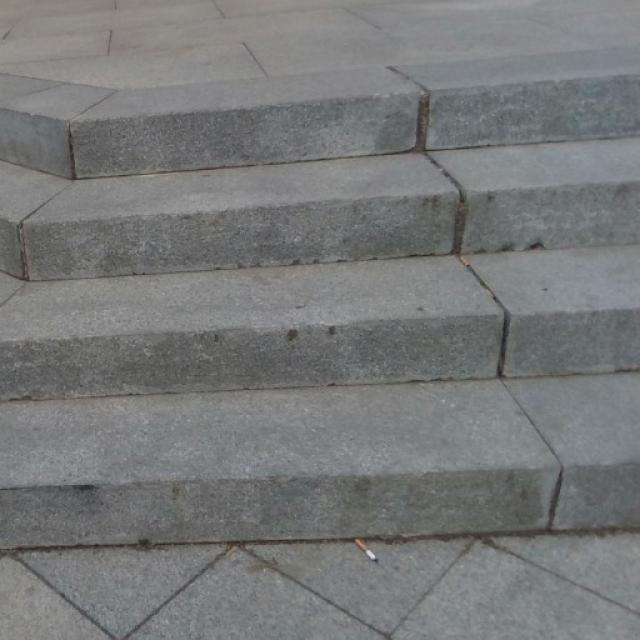Stairs: (0, 54, 639, 551)
